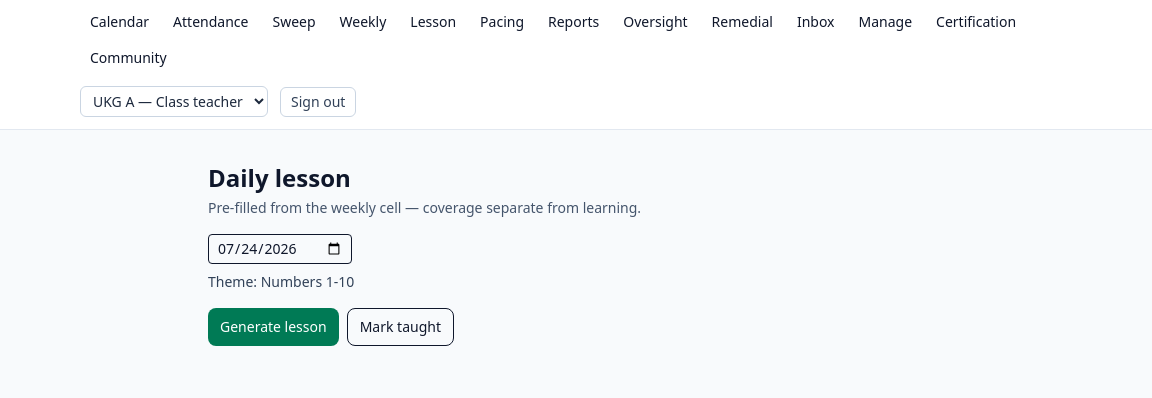
Test: DailyLessonPage › generates a lesson grounded in the map slice
The image size is (1152, 398).
Click the button "Generate lesson" at (273, 327), box x1=208 y1=308 x2=339 y2=346
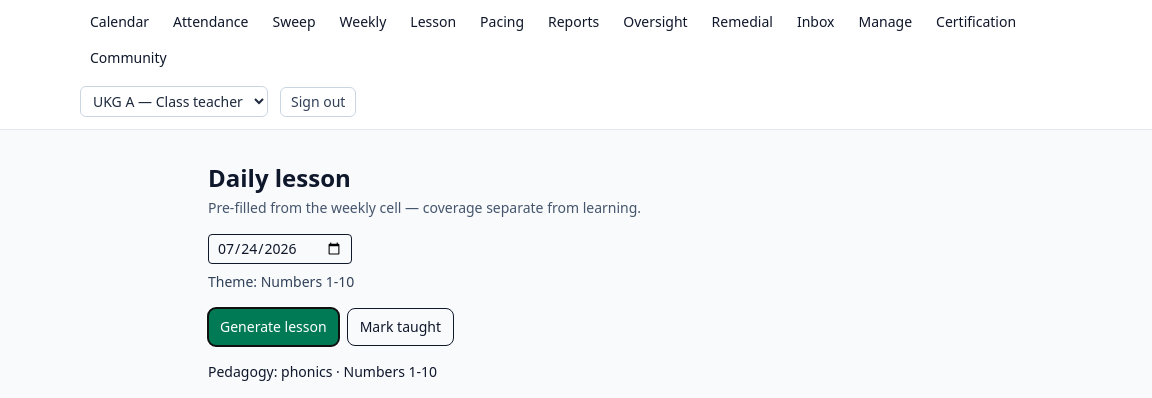
Now the text "Pedagogy: phonics · Numbers 1-10" is shown, box x1=208 y1=362 x2=437 y2=381
